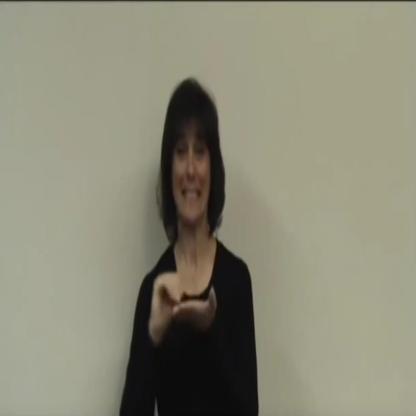ExcuseMe: (137, 257, 228, 344)
